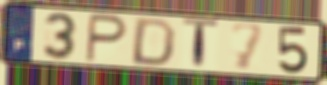3: (41, 11, 79, 62)
5: (277, 26, 309, 75)
7: (229, 21, 266, 74)
D: (128, 16, 178, 68)
P: (83, 11, 130, 65)
T: (181, 17, 221, 73)
